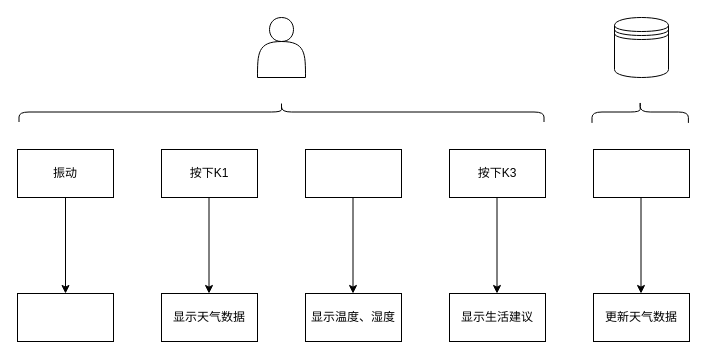
The diagram is 707 pixels wide and 359 high, and some of its shapes have lost their labels. The shapes that lost their labels are listed below. From the top down, each one's centre as x and y in pixels, then its label:
At (x=353, y=173): "按下K2".
At (x=641, y=173): "收到天气数据".
At (x=65, y=317): "发送查询请求".
